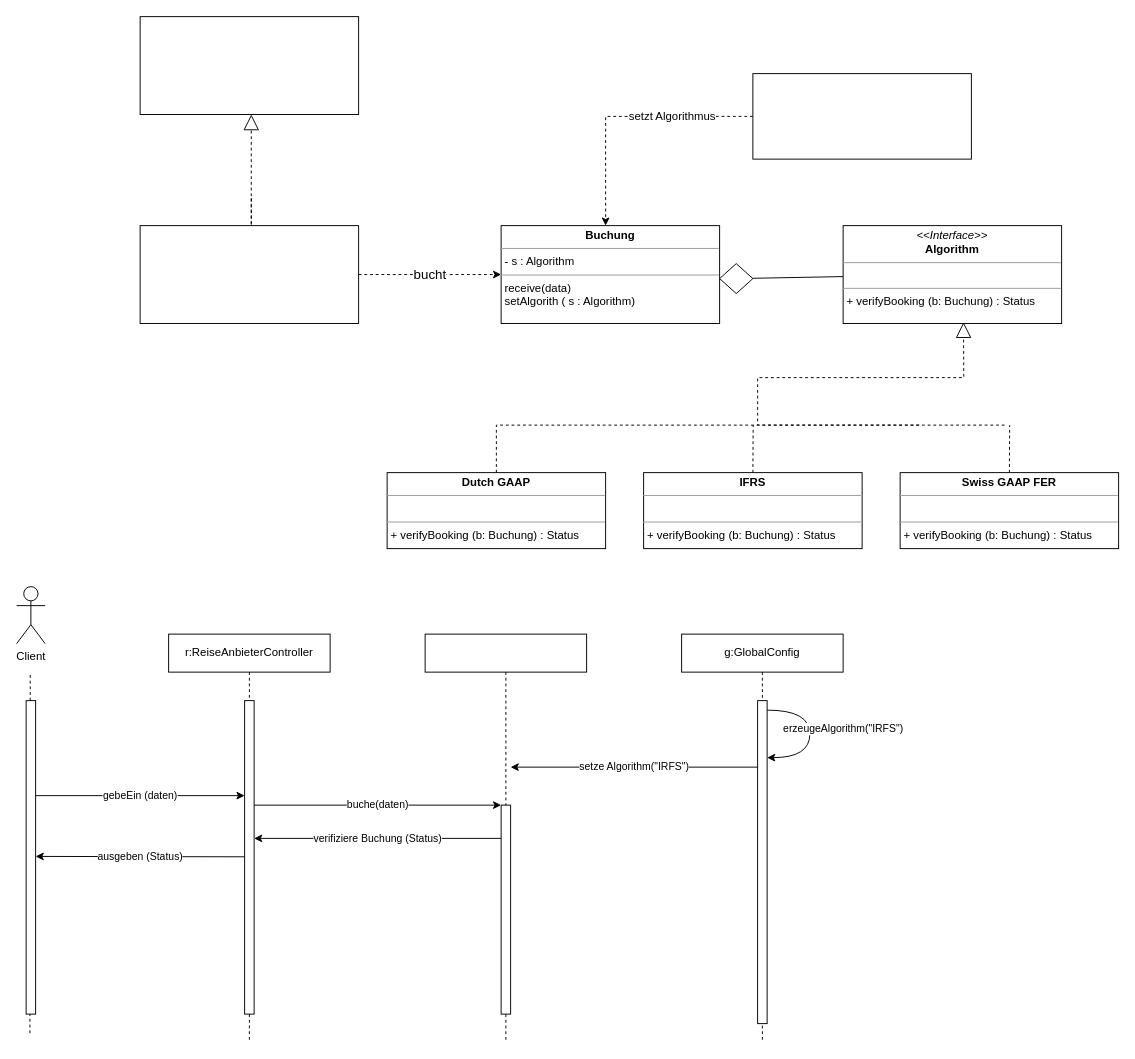
Some shapes in this 1135 by 1059 pixel diagram are drawn without their labels. The centre of each missing label's shape, as x and y in pixels:
"<<interface>> ReiseAnbieter + runQuery(d: Queryobject): Queryresult" belongs at (x=249, y=65).
"b:Buchung" belongs at (x=505, y=838).
"GlobalConfig" belongs at (x=861, y=116).
"ReiseAnbieterController + runQuery(d: Queryobject): Queryresult" belongs at (x=249, y=274).
